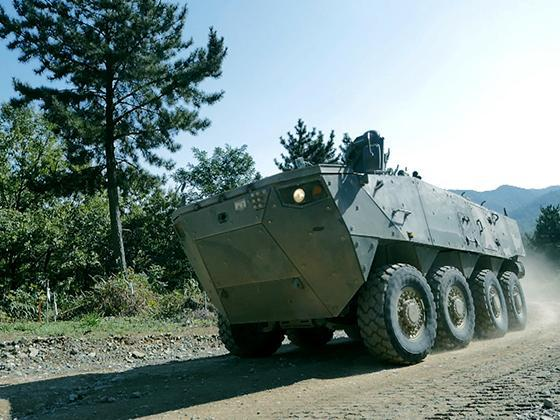MIL_IFV: (167, 130, 529, 368)
